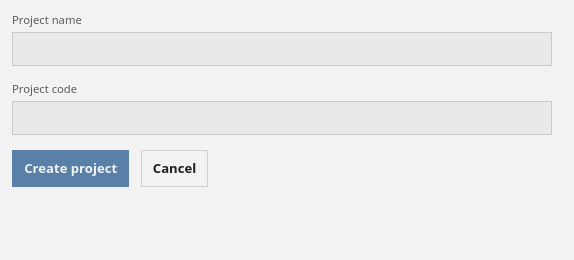
Scenario: announces server failure and retains both fields
The image size is (574, 260).
Type "Emerald" into the field labelled "Project name".
click(282, 49); type("Emerald")  # box [12,32,552,66]
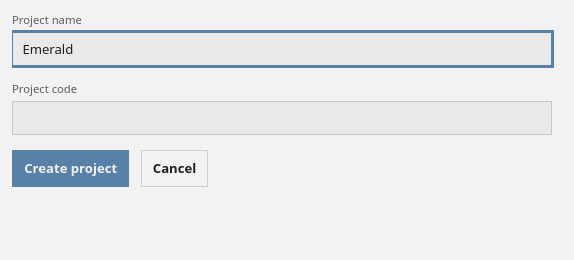
Type "eg2" into the field labelled "Project code".
click(282, 118); type("eg2")  # box [12,101,552,135]
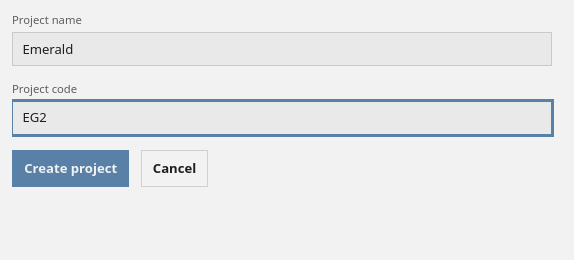
Click the button "Create project".
click(71, 168)  # box [12,150,129,187]
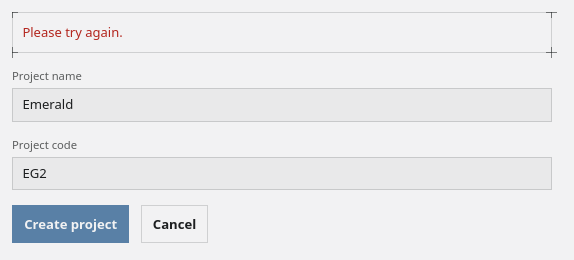
Expected: the message reads "Please try again.", [22,23,123,41]
